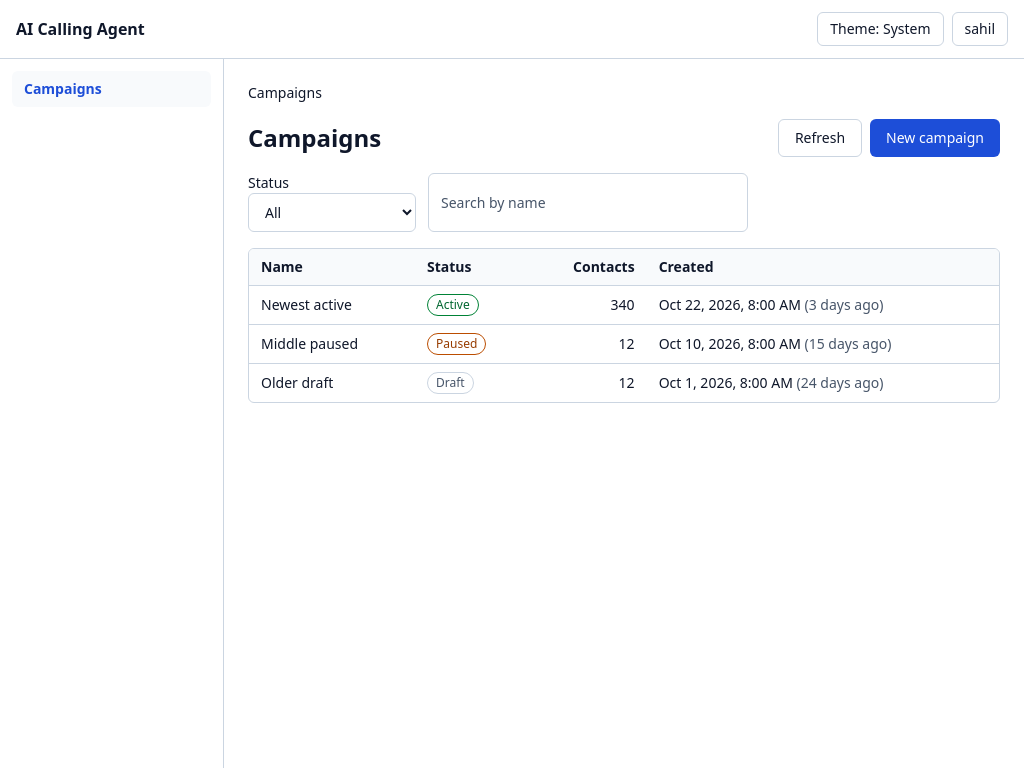
Test case: name search filters on the client without another request
The width and height of the screenshot is (1024, 768).
Expected: the table is shown, x1=249 y1=249 x2=999 y2=402
Type "middle" into the search field labelled "Search by name" at (588,202), box x1=428 y1=173 x2=748 y2=232
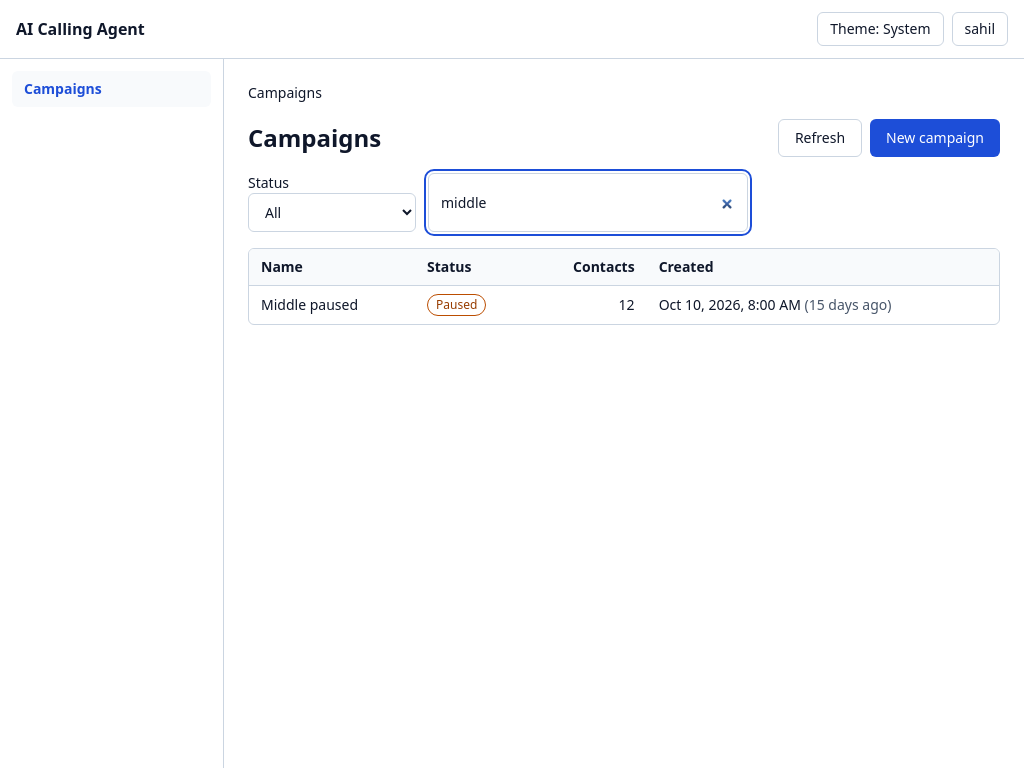
Replace the text in the search field named "Search by name" with "zzz" at (588,202), box x1=428 y1=173 x2=748 y2=232
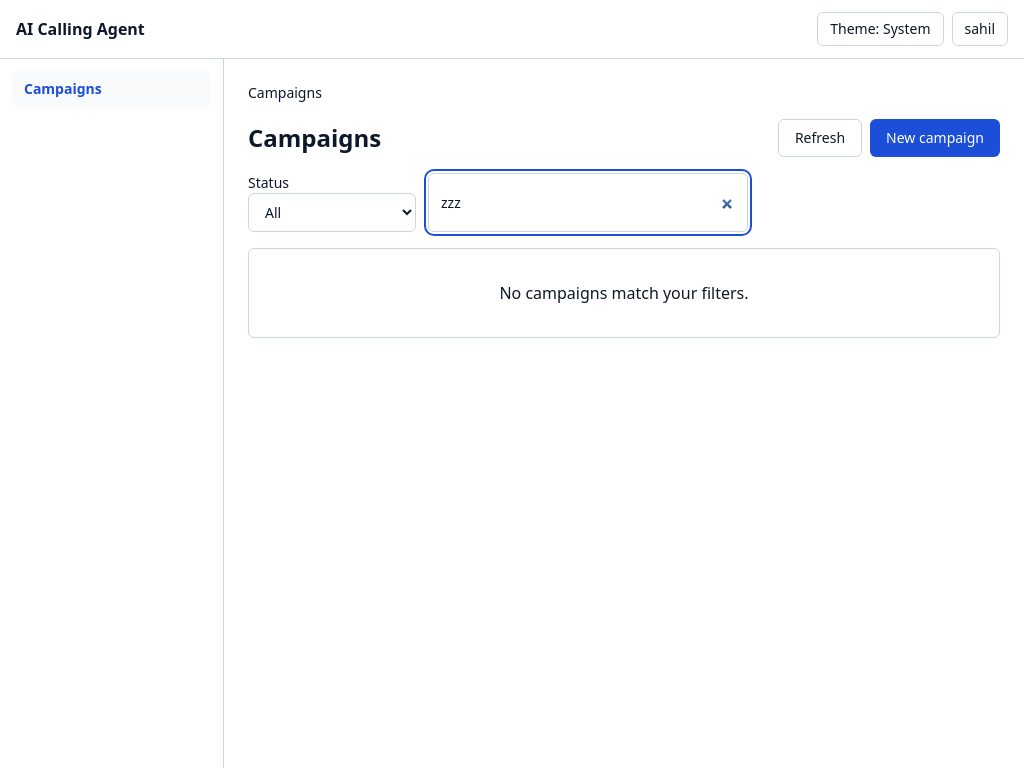
Expected: the text "No campaigns match your filters." is shown, x1=499 y1=282 x2=749 y2=304
